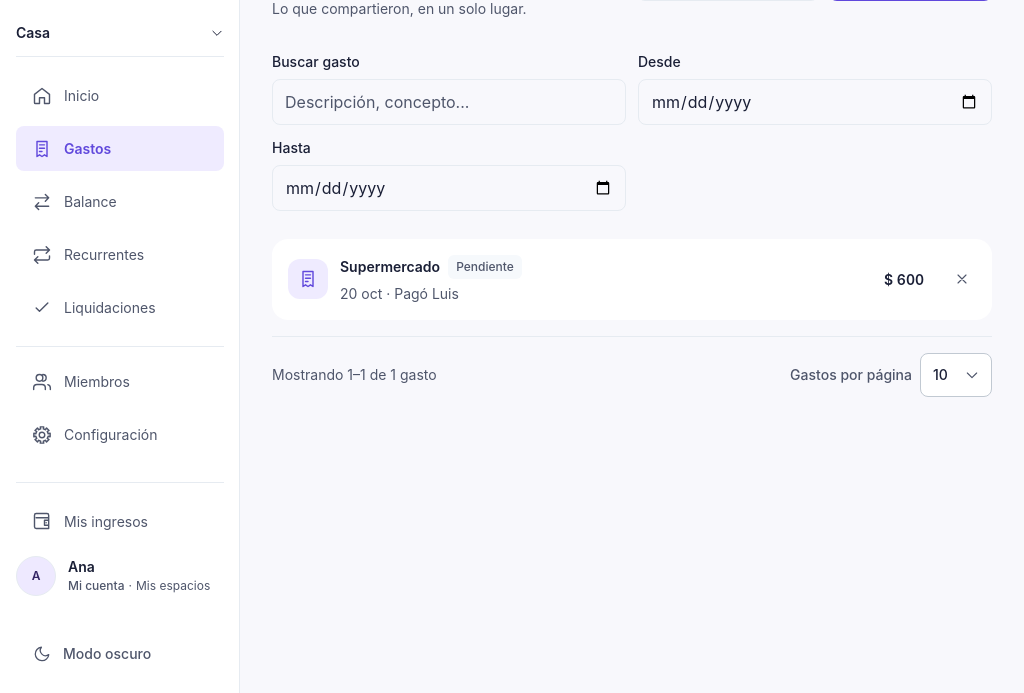
it: expense flows › repeats an expense from its detail and preserves the participant subset
Step 1. Click the button with aria-label "Ver detalle de Supermercado" → (308, 279), box 272,238 -> 940,320
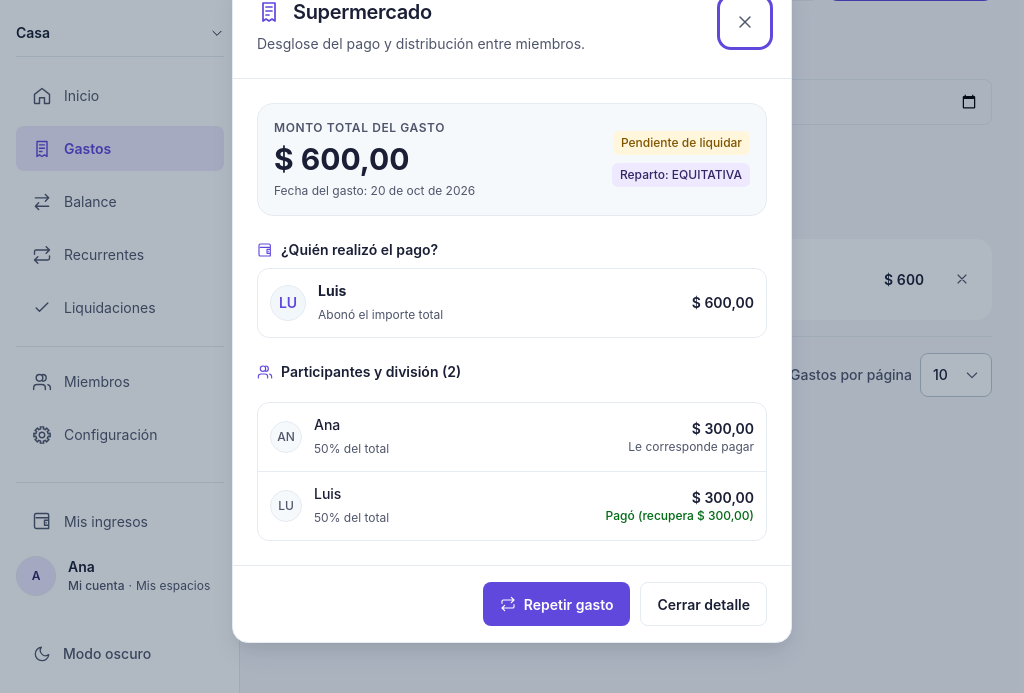
Step 2. Click the button "Repetir gasto" → (557, 604), box 483,582 -> 630,626
(page scrolled)
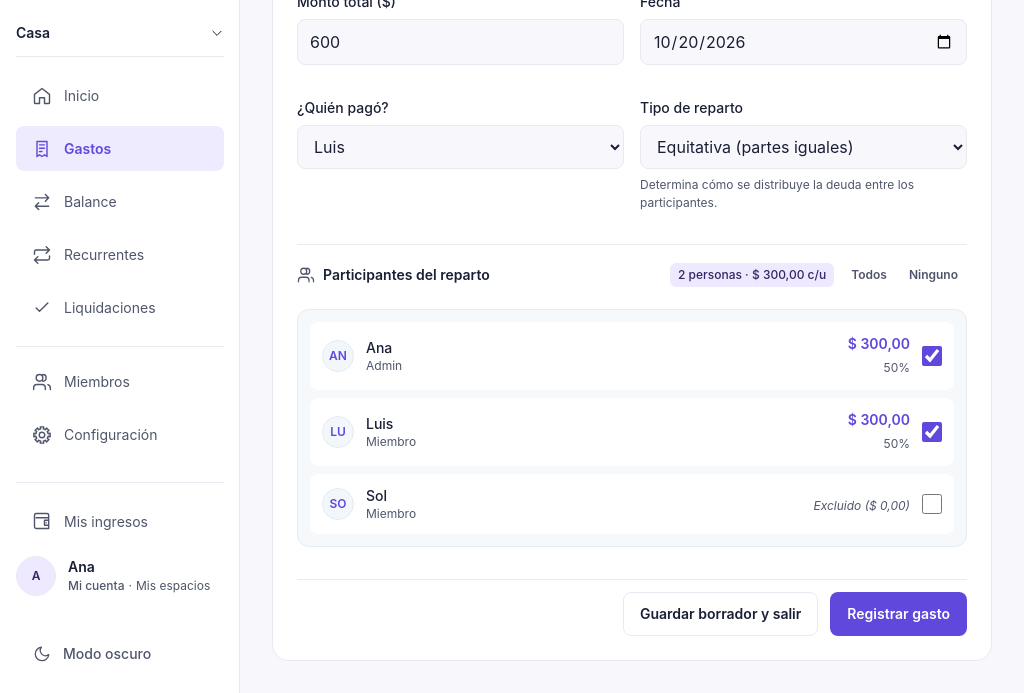
Check: the number field labelled "Monto total ($)" holds "600", box 297,18 -> 624,64
Check: the checkbox named "Incluir a Sol" is not checked, box 922,494 -> 942,514
Check: the checkbox named "Incluir a Ana" is checked, box 922,346 -> 942,366
